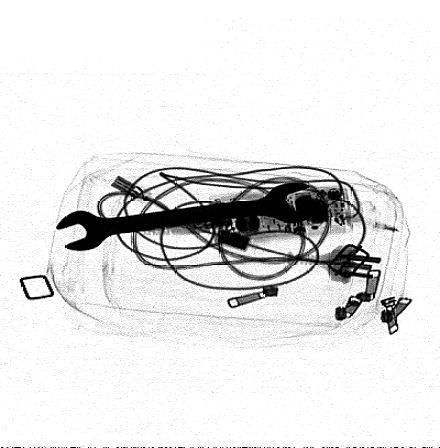Wrench: (54, 182, 311, 253)
